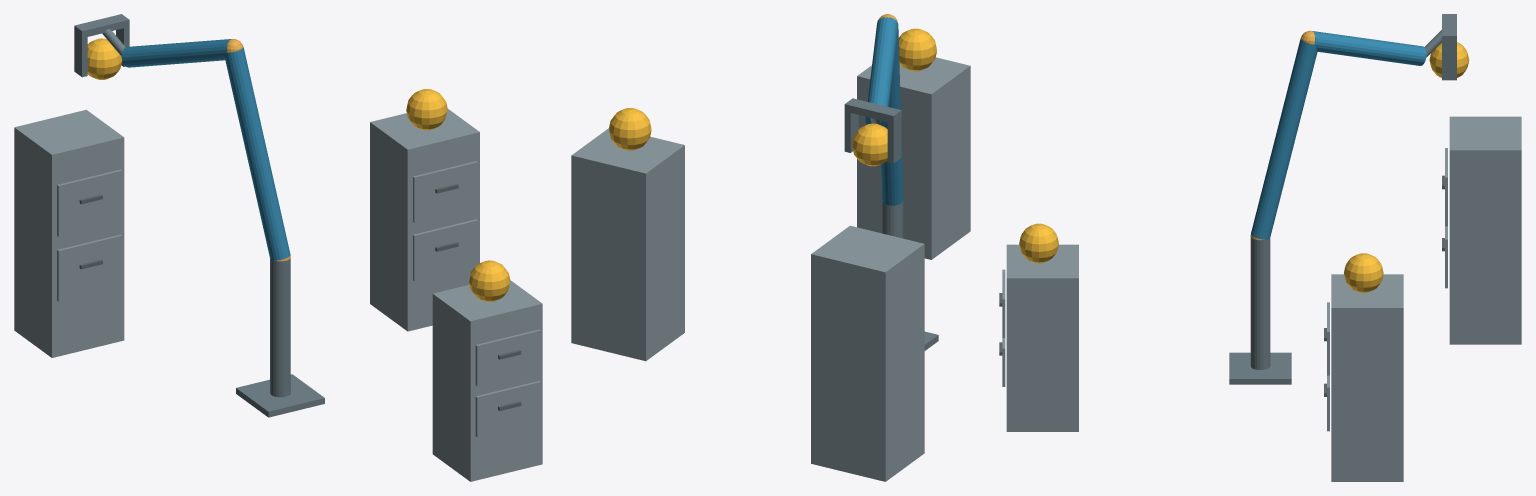
3 renders of one model, left to right at view 1: azimuth 30°, elevation 25°; view 2: azimuth 150°, elevation 25°; view 3: azimuth 270°, elevation 25°, orthographic. The views are drawn at different scales.
Visible parts, largest first — view 1: cabinet_3 body, cabinet_1 body, cabinet_2 body, moving link 1, cabinet_3 drawer front, cabinet_3 drawer front.001, cabinet_2 drawer front.001, cabinet_2 drawer front, fixed post, cabinet_1 drawer front, cabinet_1 drawer front.001, moving link 2 (+6 smaller); view 2: cabinet_3 body, cabinet_2 body, cabinet_1 body, moving link 2, moving link 1, released ball_2, released ball_1, ball ball_3, gripper bridge, fixed post, gripper finger -1, gripper finger 1; view 3: cabinet_3 body, cabinet_2 body, cabinet_1 body, moving link 1, fixed post, moving link 2, pedestal, released ball_1, released ball_2, ball ball_3, gripper finger 1.
Part boxes in pixels (x1,y1,x2,y2): cabinet_3 body: (14, 109, 124, 357); cabinet_1 body: (432, 280, 542, 481); cabinet_2 body: (370, 109, 479, 331); moving link 1: (225, 47, 290, 260); cabinet_3 drawer front: (57, 234, 122, 301); cabinet_3 drawer front.001: (57, 169, 122, 236); cabinet_2 drawer front.001: (413, 161, 477, 222); cabinet_2 drawer front: (413, 219, 477, 281); fixed post: (270, 258, 290, 397); cabinet_1 drawer front: (475, 381, 540, 437); cabinet_1 drawer front.001: (475, 329, 540, 386); moving link 2: (121, 39, 230, 67); cabinet_3 body: (811, 225, 924, 481); cabinet_2 body: (571, 128, 684, 361); cabinet_1 body: (857, 57, 970, 259); moving link 2: (865, 17, 898, 126); moving link 1: (881, 23, 903, 205); released ball_2: (609, 108, 651, 150); released ball_1: (898, 28, 936, 71); ball ball_3: (852, 123, 887, 166); gripper bridge: (844, 98, 901, 123); fixed post: (882, 200, 903, 238); gripper finger -1: (887, 118, 901, 163); gripper finger 1: (844, 111, 858, 152); cabinet_3 body: (1449, 116, 1521, 344); cabinet_2 body: (1331, 274, 1403, 481); cabinet_1 body: (1006, 244, 1078, 431); moving link 1: (1251, 39, 1317, 239); fixed post: (1250, 237, 1270, 369); moving link 2: (1312, 31, 1426, 65); pedestal: (1229, 352, 1291, 384); released ball_1: (1019, 223, 1058, 263); released ball_2: (1344, 253, 1383, 292); ball ball_3: (1429, 42, 1469, 77); gripper finger 1: (1442, 43, 1456, 80).
Size of the model in its own units: 1.62 by 1.46 by 2.1.
